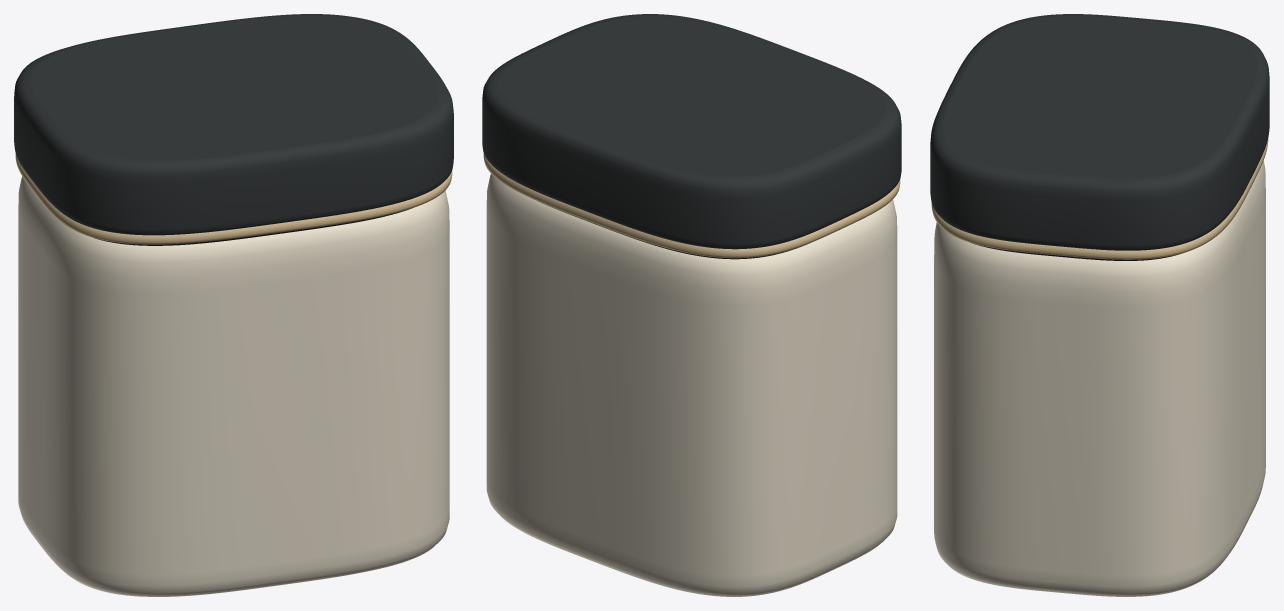
The model's file is product.glb.
3 views of the same model, side by side, from view 1: azimuth 30°, elevation 25°; view 2: azimuth 150°, elevation 25°; view 3: azimuth 270°, elevation 25° (orthographic). The views are drawn at different scales.
Parts seen in each view (by area): view 1: Jar_Body, Graphite_Lid, Champagne_Collar, Lid_Recess; view 2: Jar_Body, Graphite_Lid, Champagne_Collar; view 3: Jar_Body, Graphite_Lid, Champagne_Collar.
Part boxes in pixels (left/top/right/bottom): Jar_Body: left=18, top=176, right=449, bottom=596; Graphite_Lid: left=14, top=14, right=453, bottom=235; Champagne_Collar: left=15, top=154, right=452, bottom=244; Lid_Recess: left=94, top=208, right=411, bottom=245; Jar_Body: left=486, top=174, right=897, bottom=596; Graphite_Lid: left=482, top=14, right=901, bottom=249; Champagne_Collar: left=483, top=153, right=900, bottom=258; Jar_Body: left=934, top=161, right=1265, bottom=596; Graphite_Lid: left=930, top=14, right=1269, bottom=250; Champagne_Collar: left=931, top=138, right=1268, bottom=259.
Bounding box in the file's own units: 0.1007 × 0.1124 × 0.0822.
